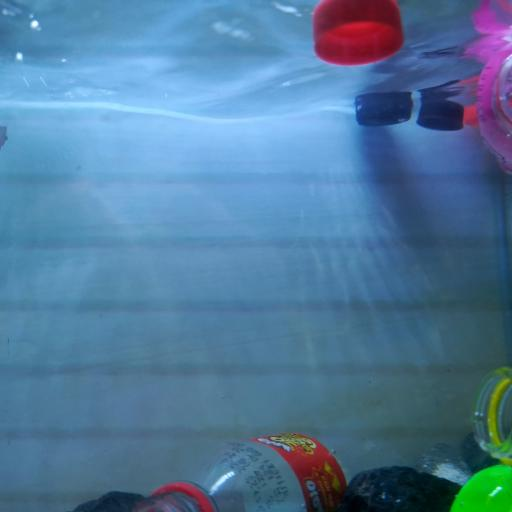bottle_cap: (314, 0, 404, 69), (356, 92, 412, 125), (419, 98, 462, 132), (466, 102, 480, 130)
plastic_bottle: (131, 432, 427, 512), (479, 40, 512, 164), (471, 363, 512, 462), (443, 466, 512, 512)
